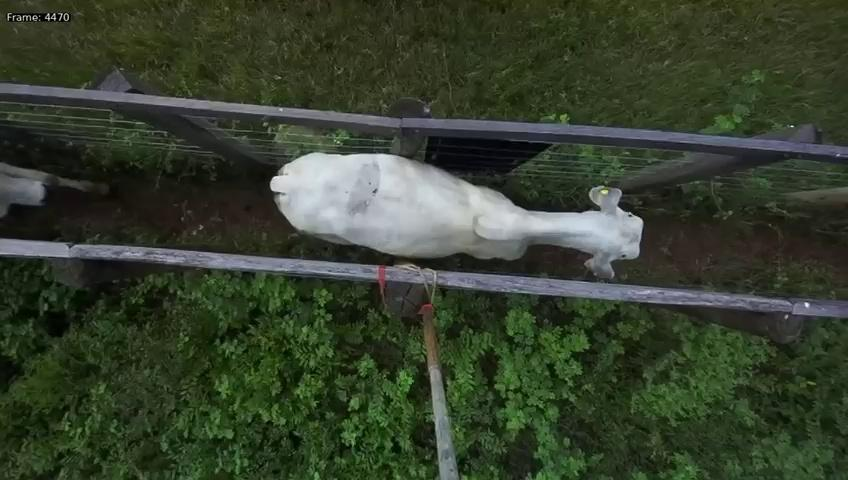cattle: (264, 131, 646, 281)
